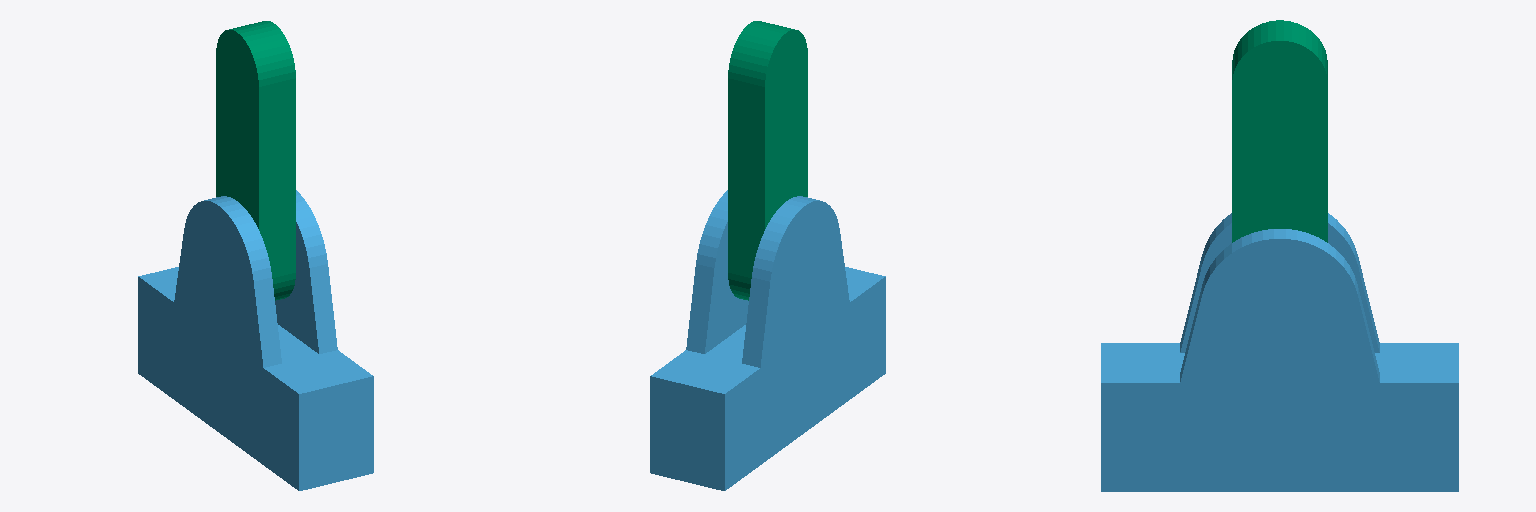
URDF robot description (sl_robot):
<?xml version="1.0" ?>
<!-- =================================================================================== -->
<!-- |    This document was autogenerated by xacro from slbot_t5.xacro                 | -->
<!-- |    EDITING THIS FILE BY HAND IS NOT RECOMMENDED                                 | -->
<!-- =================================================================================== -->
<!-- A single joint (one movable link) robot -->
<robot name="sl_robot">
  <!-- Material properties -->
  <gazebo reference="base">
    <material>Gazebo/Orange</material>
  </gazebo>
  <gazebo reference="link1">
    <material>Gazebo/Red</material>
  </gazebo>
  <!-- Dummy link -->
  <link name="world">
    </link>
  <!-- Main <link> element -->
  <link name="base">
    <!-- Visual: appearance -->
    <visual>
      <!-- Origin of the visual mesh -->
      <origin rpy="0.0 0.0 0.0" xyz="-0.06 -0.225 0.0"/>
      <geometry>
        <!-- Mesh file -->
        <mesh filename="package://basic_robotics/urdf/meshes/Base_t5.STL" scale="0.001 0.001 0.001"/>
      </geometry>
    </visual>
    <!-- Collision: physics -->
    <collision>
      <!-- Origin of the visual mesh -->
      <origin rpy="0.0 0.0 0.0" xyz="-0.06 -0.225 0.0"/>
      <geometry>
        <!-- Mesh file -->
        <mesh filename="package://basic_robotics/urdf/meshes/Base_t5.STL" scale="0.001 0.001 0.001"/>
      </geometry>
    </collision>
    <!-- Inertia: 3D moment of inertia -->
    <inertial>
      <origin rpy="0.0 0.0 0.0" xyz="0.0 0.0 0.0"/>
      <mass value="82.74614"/>
      <!-- Inertial tensor -->
      <inertia ixx="2.746313" ixy="0.0" ixz="0.0" iyy="1.721184" iyz="0.0" izz="1.254731"/>
    </inertial>
  </link>
  <!-- Main <link> element -->
  <link name="link1">
    <!-- Visual: appearance -->
    <visual>
      <!-- Origin of the visual mesh -->
      <origin rpy="0.0 0.0 0.0" xyz="-0.03 -0.06 -0.06"/>
      <geometry>
        <!-- Mesh file -->
        <mesh filename="package://basic_robotics/urdf/meshes/Link_t5.STL" scale="0.001 0.001 0.001"/>
      </geometry>
    </visual>
    <!-- Collision: physics -->
    <collision>
      <!-- Origin of the visual mesh -->
      <origin rpy="0.0 0.0 0.0" xyz="-0.03 -0.06 -0.06"/>
      <geometry>
        <!-- Mesh file -->
        <mesh filename="package://basic_robotics/urdf/meshes/Link_t5.STL" scale="0.001 0.001 0.001"/>
      </geometry>
    </collision>
    <!-- Inertia: 3D moment of inertia -->
    <inertial>
      <origin rpy="0.0 0.0 0.0" xyz="0.0 0.0 0.0"/>
      <mass value="7.61817"/>
      <!-- Inertial tensor -->
      <inertia ixx="0.292031" ixy="0.0" ixz="0.0" iyy="0.285400" iyz="0.0" izz="0.011201"/>
    </inertial>
  </link>
  <!-- Joint for the dummy link -->
  <joint name="dummy" type="fixed">
    <parent link="world"/>
    <child link="base"/>
  </joint>
  <!-- Joint to connect them -->
  <joint name="joint1" type="revolute">
    <parent link="base"/>
    <child link="link1"/>
    <origin rpy="0.0 0.0 0.0" xyz="0.0 0.0 0.25"/>
    <axis xyz="1.0 0.0 0.0"/>
    <limit effort="10" lower="-1.570796" upper="1.570796" velocity="10"/>
  </joint>
</robot>

--- Render facts (derived) ---
3 views of the same robot in one strip: view 1: azimuth 30°, elevation 25°; view 2: azimuth 150°, elevation 25°; view 3: azimuth 270°, elevation 25° (orthographic).
Robot: sl_robot — 3 links, 2 joints (1 revolute, 1 fixed); root link world; default pose: all joints at 0.
Links seen in each view (by area): view 1: base, link1; view 2: base, link1; view 3: base, link1.
Link boxes in pixels (x1,y1,x2,y2): base: (138,190,373,490); link1: (216,21,295,300); base: (650,190,885,490); link1: (728,21,807,300); base: (1101,213,1458,491); link1: (1232,20,1327,242).
Size in the robot's own frame: 0.12 by 0.45 by 0.6098 metres.
2 mesh visuals loaded from 2 distinct referenced files (2 binary STL).
